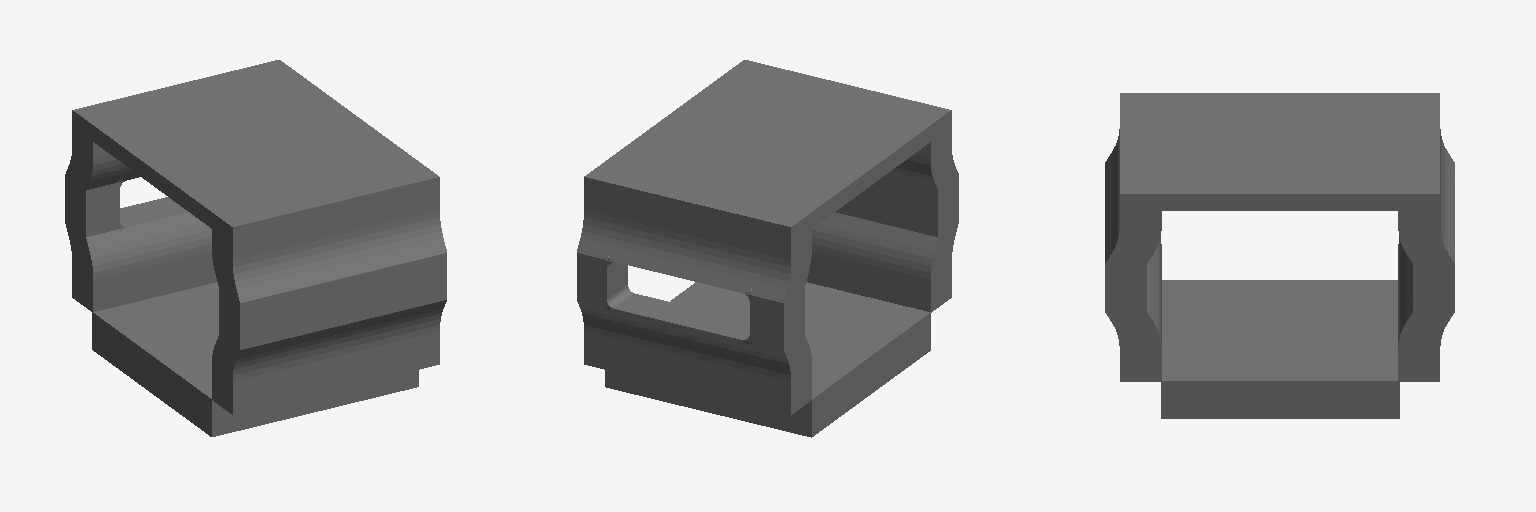
The model's file is modulo_ventana.obj.
The picture shows the model from 3 angles: view 1: azimuth 30°, elevation 25°; view 2: azimuth 150°, elevation 25°; view 3: azimuth 270°, elevation 25°; orthographic projection.
Parts seen in each view (by area): view 1: modulo_recto3:modulo_recto2; view 2: modulo_recto3:modulo_recto2; view 3: modulo_recto3:modulo_recto2.
Part boxes in pixels (x1,y1,x2,y2): modulo_recto3:modulo_recto2: (65,60,446,436); modulo_recto3:modulo_recto2: (577,60,958,437); modulo_recto3:modulo_recto2: (1105,93,1454,418).
Bounding box in the file's own units: 570 × 590 × 833.